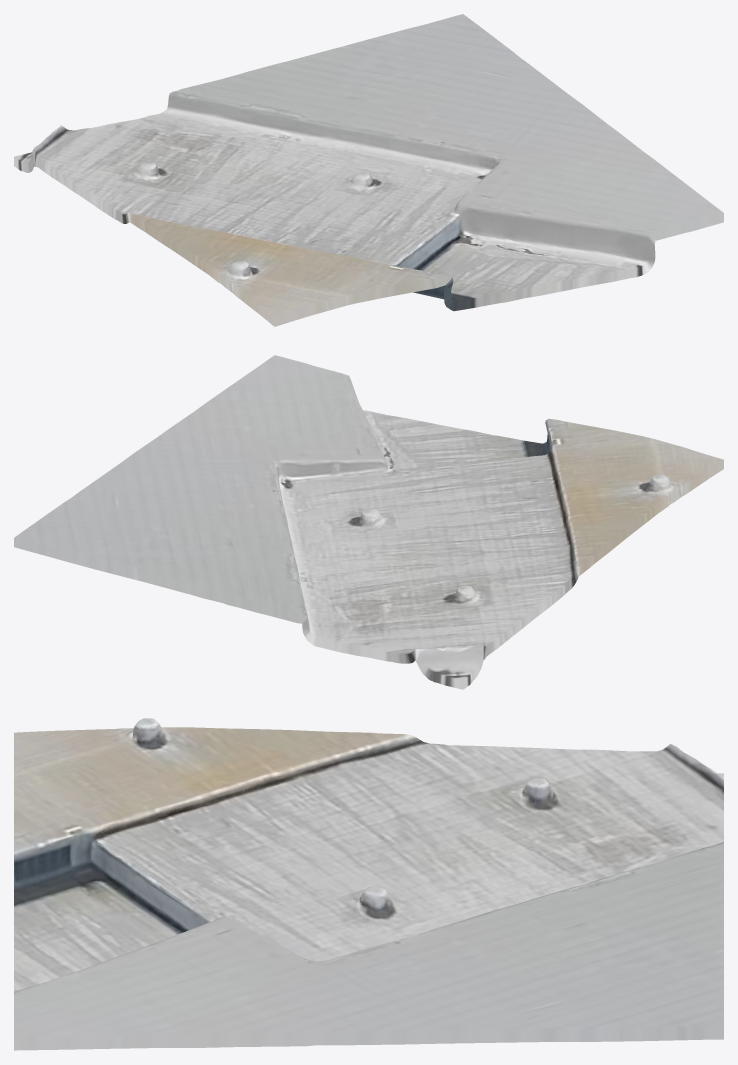
The model's file is z20-167772-405194-h0-yup-uvflip-v3-world.glb.
3 renders of one model, top to bottom at view 1: azimuth 30°, elevation 25°; view 2: azimuth 150°, elevation 25°; view 3: azimuth 270°, elevation 25°, orthographic. The views are drawn at different scales.
Size of the model in its own units: 30.16 by 4.12 by 30.32.
1 material, 1 textured.
